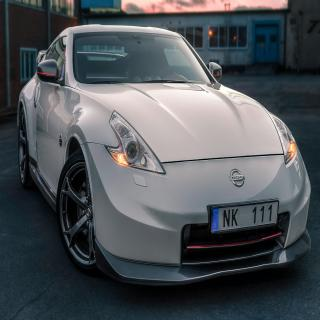Normal_vehicle: (14, 22, 312, 299)
